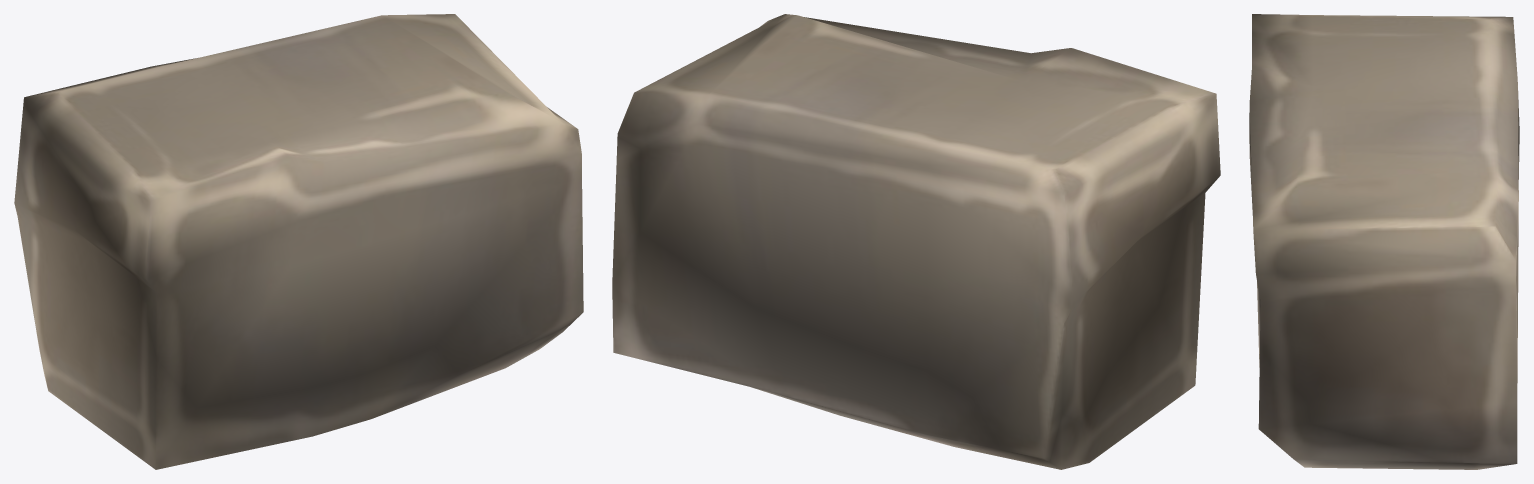
File: Prop_Brick2.gltf
The picture shows the model from 3 angles, left to right: view 1: azimuth 30°, elevation 25°; view 2: azimuth 150°, elevation 25°; view 3: azimuth 270°, elevation 25°; orthographic projection. The views are drawn at different scales.
Parts seen in each view (by area): view 1: Prop_Brick2; view 2: Prop_Brick2; view 3: Prop_Brick2.
Boxes of the visible parts, x1=… form: Prop_Brick2: x1=14, y1=14, x2=583, y2=469; Prop_Brick2: x1=612, y1=14, x2=1220, y2=469; Prop_Brick2: x1=1249, y1=14, x2=1519, y2=469.
Size of the model in its own units: 0.3954 by 0.2449 by 0.2169.
Materials: 1 (1 with a texture image).
